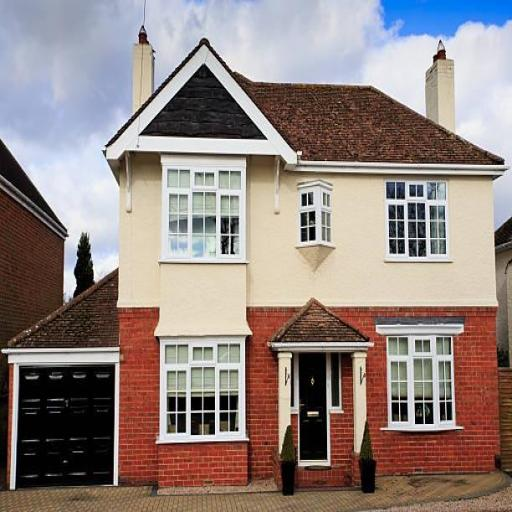door: (291, 352, 335, 477)
